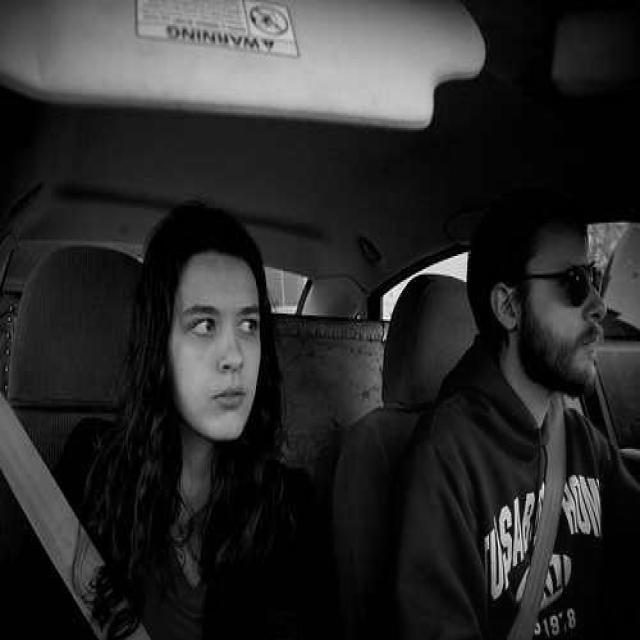Seatbelt: (0, 424, 148, 640), (508, 398, 566, 636)
